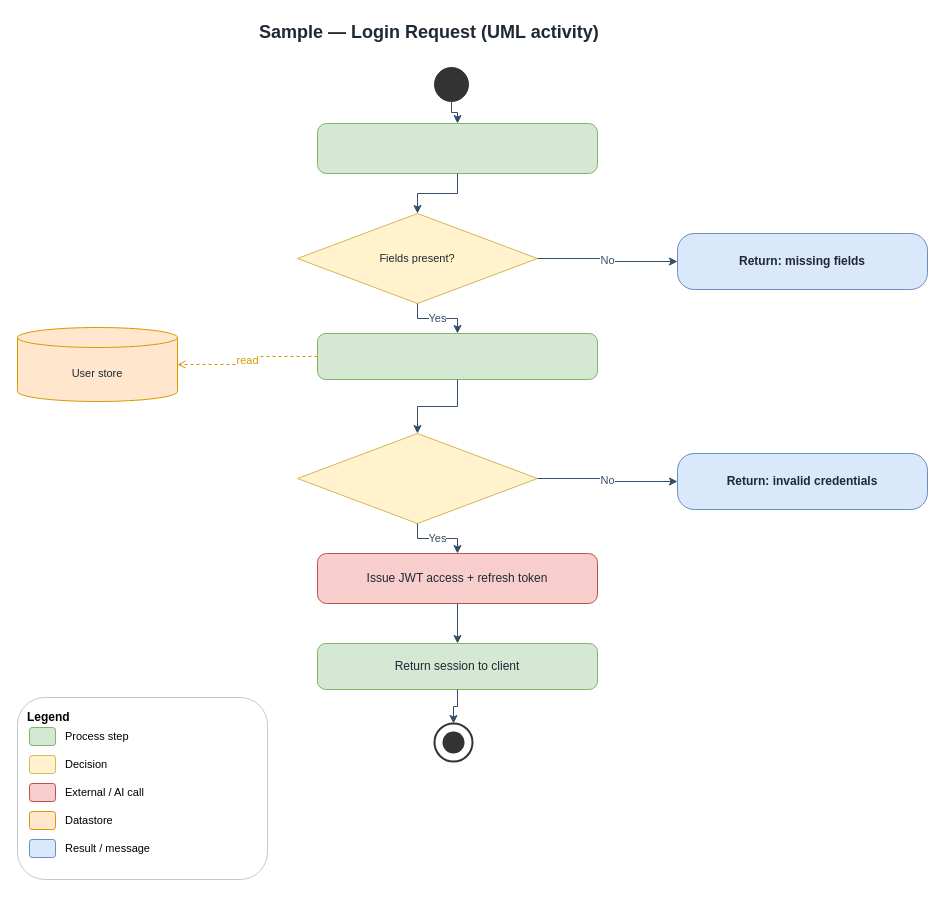
The diagram is 945 pixels wide and 897 high, and some of its shapes have lost their labels. Each missing label, with the centre of its shape:
Look up user by username: (x=457, y=356)
Password matches?: (x=417, y=478)
Receive login request (username + password): (x=457, y=148)
